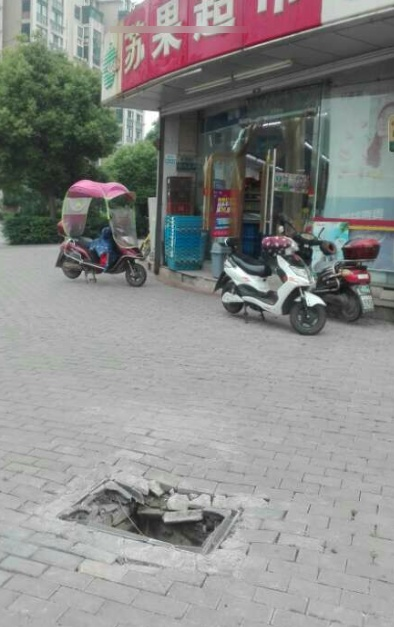broke: (56, 470, 245, 561)
